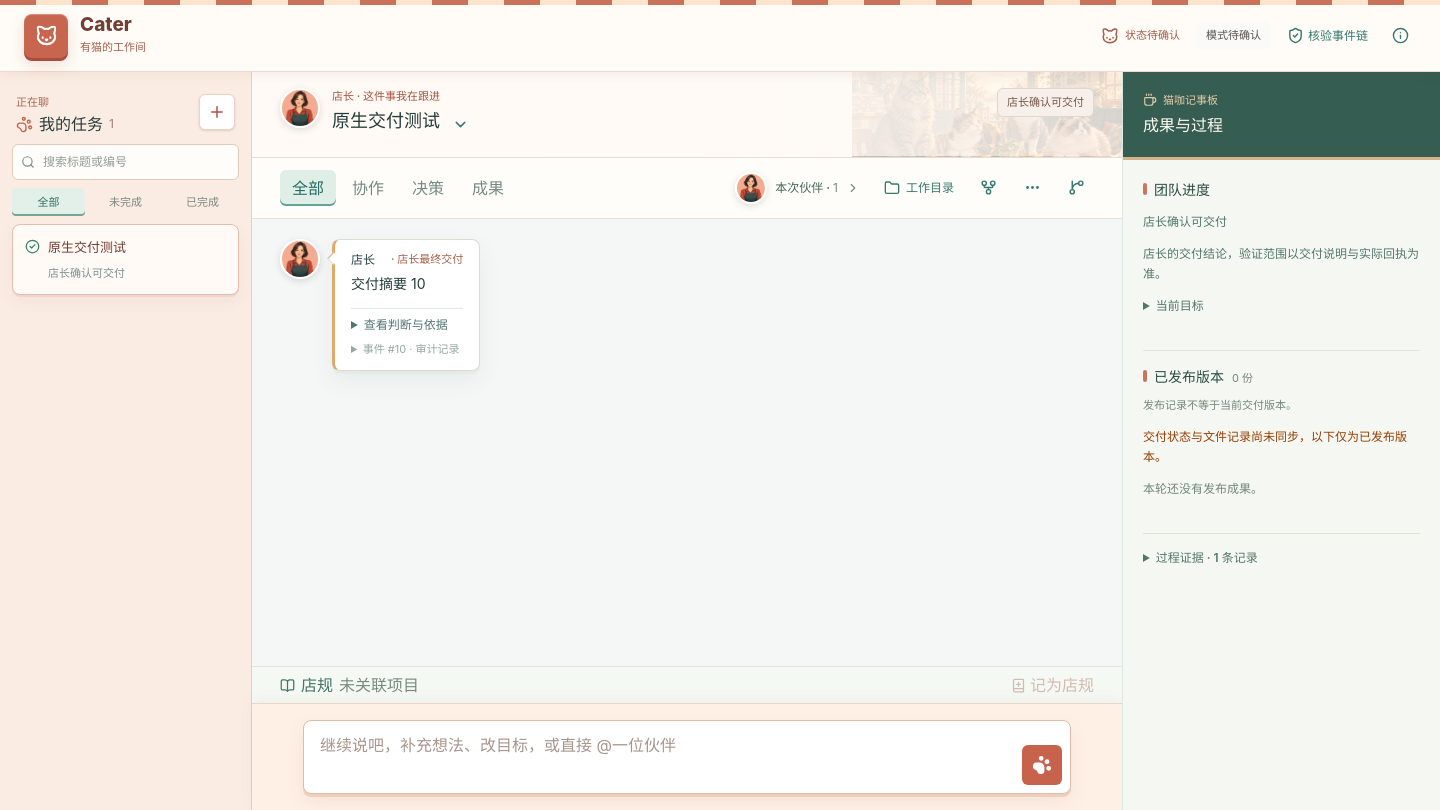
Scenario: 可选说明省略警告只进入既有折叠详情，交付正文和完成状态保持不变
The image size is (1440, 810).
expect the element "团队进度" is shown: met, box [1143,180,1420,330]
expect the number of elements with class "message-details" is 1: met, box [351,308,463,333]
Click the heading "查看判断与依据" at (406, 324), box [364,317,448,332]
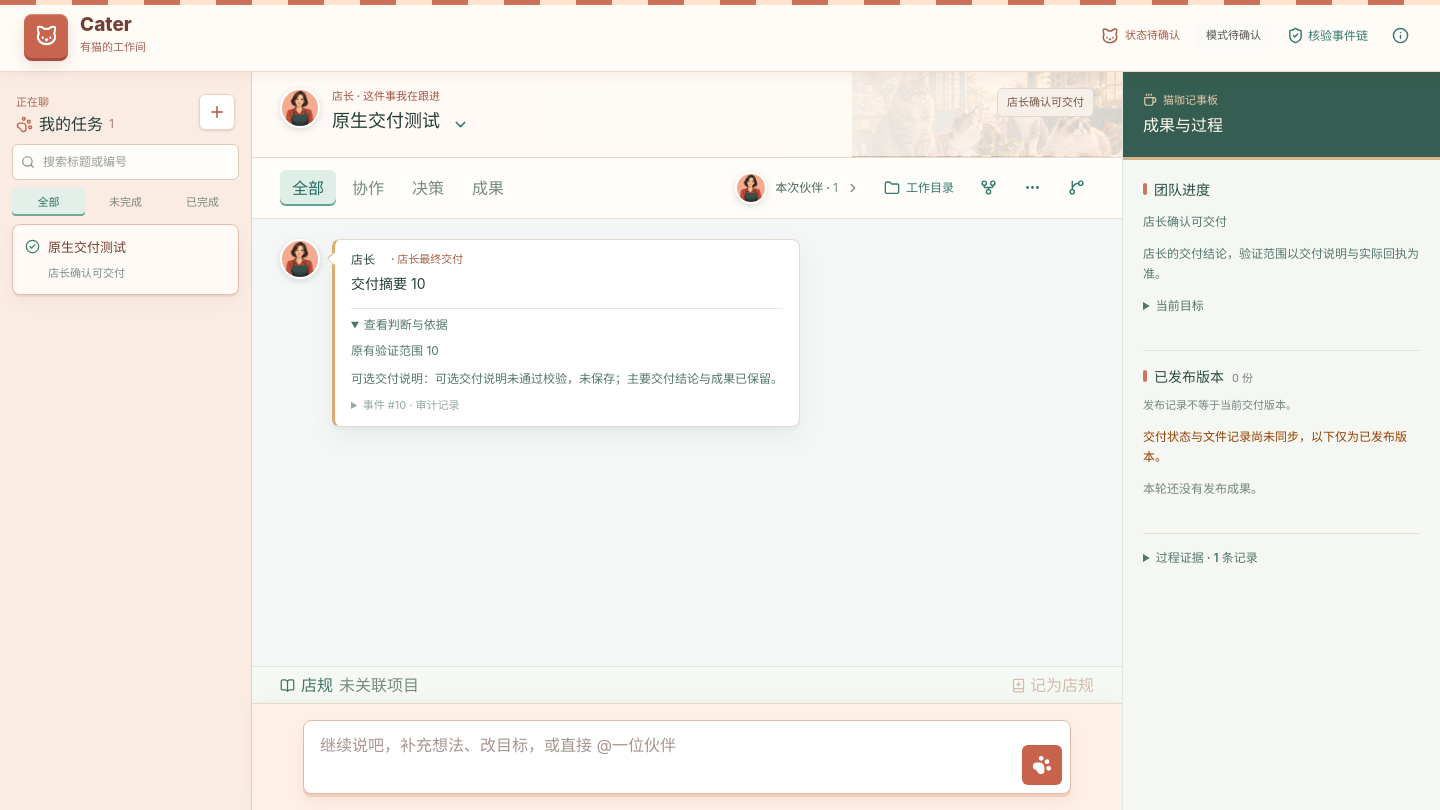
expect the list item "原有验证范围 10" is shown: met, box [351,343,439,358]
